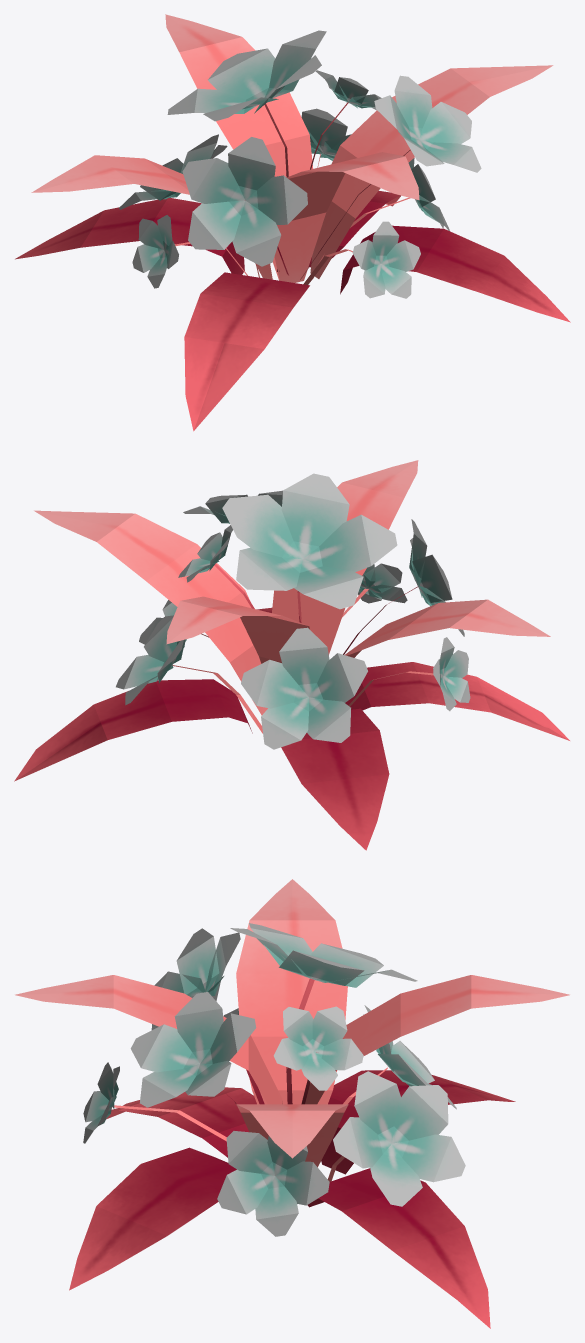
3 views of the same model, one above another, from view 1: azimuth 30°, elevation 25°; view 2: azimuth 150°, elevation 25°; view 3: azimuth 270°, elevation 25° (orthographic). The views are drawn at different scales.
Visible parts, largest first — view 1: Cube.001.frozen, Cube.frozen, Cube.002.frozen, Cube.003.frozen, Cube.005.frozen, Cube.006.frozen, Cube.007.frozen, Cube.010.frozen, Cube.012.frozen, Cube.008.frozen, Cube.004.frozen, Cube.009.frozen (+1 smaller); view 2: Cube.006.frozen, Cube.frozen, Cube.003.frozen, Cube.004.frozen, Cube.001.frozen, Cube.002.frozen, Cube.008.frozen, Cube.005.frozen, Cube.012.frozen, Cube.010.frozen, Cube.009.frozen, Cube.007.frozen; view 3: Cube.frozen, Cube.003.frozen, Cube.002.frozen, Cube.001.frozen, Cube.008.frozen, Cube.007.frozen, Cube.011.frozen, Cube.009.frozen, Cube.006.frozen, Cube.005.frozen, Cube.004.frozen, Cube.010.frozen.
Part boxes in pixels (left/top/right/bottom): Cube.001.frozen: left=165, top=14, right=419, bottom=282; Cube.frozen: left=31, top=65, right=553, bottom=279; Cube.002.frozen: left=15, top=198, right=570, bottom=322; Cube.003.frozen: left=184, top=191, right=400, bottom=431; Cube.005.frozen: left=182, top=137, right=307, bottom=266; Cube.006.frozen: left=167, top=30, right=326, bottom=121; Cube.007.frozen: left=374, top=75, right=481, bottom=172; Cube.010.frozen: left=352, top=221, right=420, bottom=298; Cube.012.frozen: left=132, top=215, right=178, bottom=288; Cube.008.frozen: left=301, top=108, right=351, bottom=160; Cube.004.frozen: left=119, top=134, right=227, bottom=209; Cube.009.frozen: left=315, top=70, right=381, bottom=110; Cube.006.frozen: left=222, top=473, right=397, bottom=609; Cube.frozen: left=34, top=510, right=550, bottom=715; Cube.003.frozen: left=14, top=662, right=569, bottom=781; Cube.004.frozen: left=241, top=627, right=367, bottom=749; Cube.001.frozen: left=166, top=460, right=418, bottom=663; Cube.002.frozen: left=257, top=607, right=389, bottom=850; Cube.008.frozen: left=116, top=615, right=186, bottom=705; Cube.005.frozen: left=409, top=519, right=464, bottom=636; Cube.012.frozen: left=433, top=637, right=470, bottom=711; Cube.010.frozen: left=358, top=563, right=407, bottom=603; Cube.009.frozen: left=178, top=525, right=232, bottom=582; Cube.007.frozen: left=183, top=490, right=282, bottom=523; Cube.frozen: left=236, top=879, right=348, bottom=1167; Cube.003.frozen: left=106, top=1087, right=490, bottom=1328; Cube.002.frozen: left=69, top=1070, right=515, bottom=1290; Cube.001.frozen: left=15, top=975, right=569, bottom=1104; Cube.008.frozen: left=333, top=1071, right=465, bottom=1206; Cube.007.frozen: left=130, top=992, right=256, bottom=1107; Cube.011.frozen: left=217, top=1131, right=329, bottom=1236; Cube.009.frozen: left=273, top=1006, right=363, bottom=1090; Cube.006.frozen: left=230, top=923, right=417, bottom=987; Cube.005.frozen: left=151, top=928, right=240, bottom=1029; Cube.004.frozen: left=363, top=1005, right=456, bottom=1109; Cube.010.frozen: left=83, top=1062, right=119, bottom=1143.
Size of the model in its own units: 143 by 70.89 by 120.
Materials: 3 (3 with a texture image).
